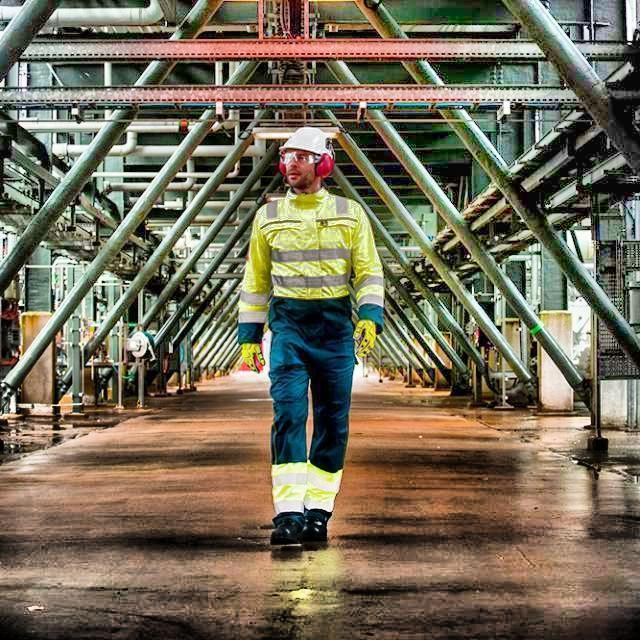safety_jacket: (246, 186, 360, 311)
